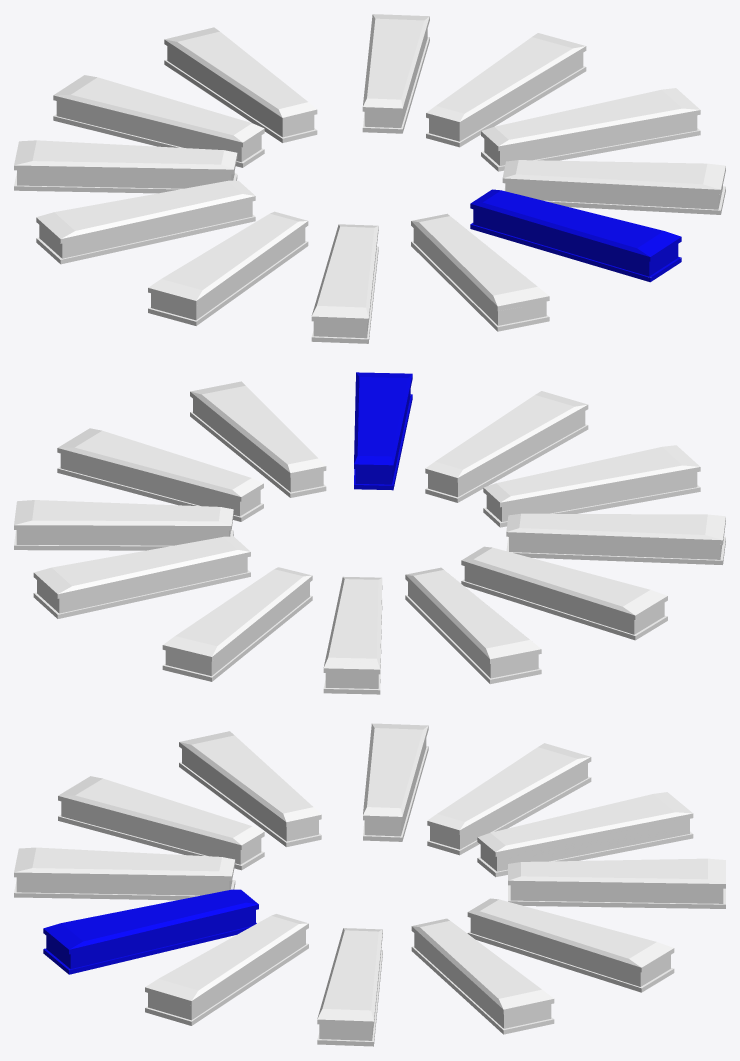
Rendered from xfbcvbcvbcv.glb.
The picture shows the model from 3 angles, top to bottom: view 1: azimuth 30°, elevation 25°; view 2: azimuth 150°, elevation 25°; view 3: azimuth 270°, elevation 25°; orthographic projection.
Parts seen in each view (by area): view 1: group_6.003, group_4.004, group_7.003, group_3.004, group_11, group_0.003, group_8.001, group_2, group_1.002, group_10, group_9.004, group_5.002 (+12 smaller); view 2: group_2, group_8.001, group_5.002, group_9.004, group_3.004, group_7.003, group_10, group_1.002, group_6.003, group_4.004, group_11, group_0.003 (+12 smaller); view 3: group_10, group_1.002, group_11, group_0.003, group_9.004, group_5.002, group_4.004, group_6.003, group_2, group_8.001, group_7.003, group_3.004 (+12 smaller).
Boxes of the visible parts, x1,y1,x2,y2 form: group_6.003: (14,140,237,174); group_4.004: (502,160,725,194); group_7.003: (36,180,255,243); group_3.004: (481,88,700,151); group_11: (470,189,681,261); group_0.003: (53,75,264,147); group_8.001: (148,211,308,305); group_2: (426,33,586,126); group_1.002: (164,27,317,122); group_10: (411,213,549,310); group_9.004: (311,224,378,323); group_5.002: (362,14,429,113); group_2: (14,500,233,530); group_8.001: (506,513,725,544); group_5.002: (33,536,250,598); group_9.004: (483,445,700,507); group_3.004: (57,428,263,501); group_7.003: (461,546,667,619); group_10: (425,391,588,482); group_1.002: (162,567,312,661); group_6.003: (405,567,541,663); group_4.004: (190,381,326,477); group_11: (354,372,412,469); group_0.003: (323,576,382,674); group_10: (14,847,235,880); group_1.002: (508,858,725,888); group_11: (43,889,258,954); group_0.003: (477,792,693,856); group_9.004: (58,776,264,849); group_5.002: (467,898,674,972); group_4.004: (145,914,308,1005); group_6.003: (427,743,591,834); group_2: (411,918,554,1014); group_8.001: (179,731,321,826); group_7.003: (363,723,428,821); group_3.004: (317,928,382,1026).
Size of the model in its own units: 7.93 by 0.35 by 8.
